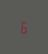six: (19, 19, 26, 34)
